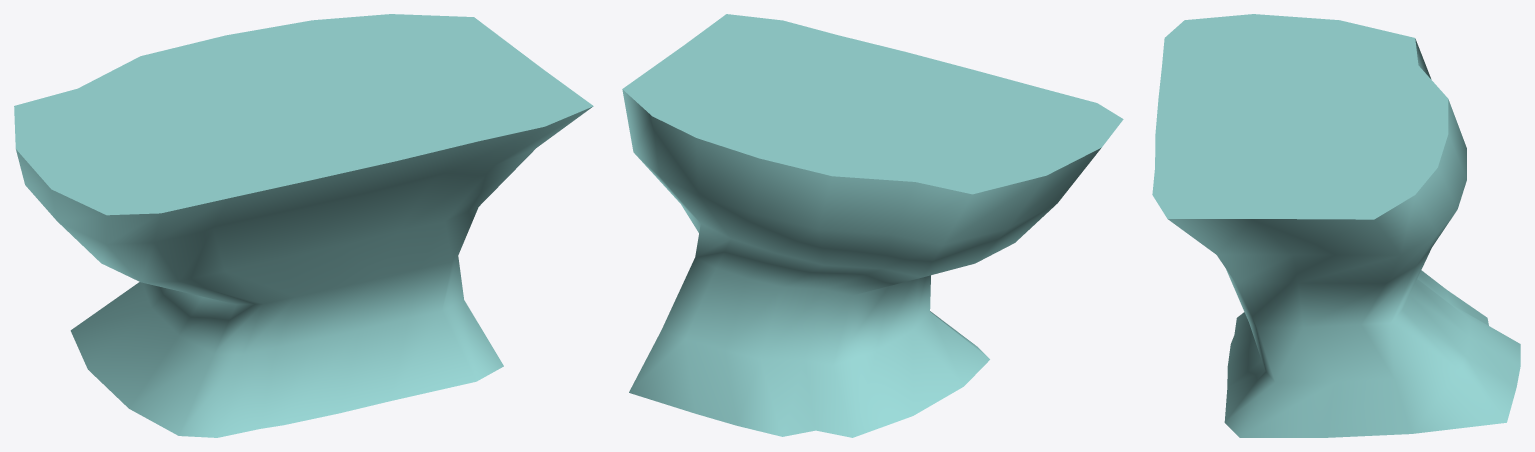
Rendered from wallsDownNew.FBX.
The picture shows the model from 3 angles, left to right: view 1: azimuth 30°, elevation 25°; view 2: azimuth 150°, elevation 25°; view 3: azimuth 270°, elevation 25°; orthographic projection. The views are drawn at different scales.
Parts seen in each view (by area): view 1: Cylinder010; view 2: Cylinder010; view 3: Cylinder010.
Part boxes in pixels (x1,y1,x2,y2): Cylinder010: (14,14,593,437); Cylinder010: (622,14,1123,437); Cylinder010: (1152,14,1520,437).
Bounding box in the file's own units: 469 × 254 × 355.
